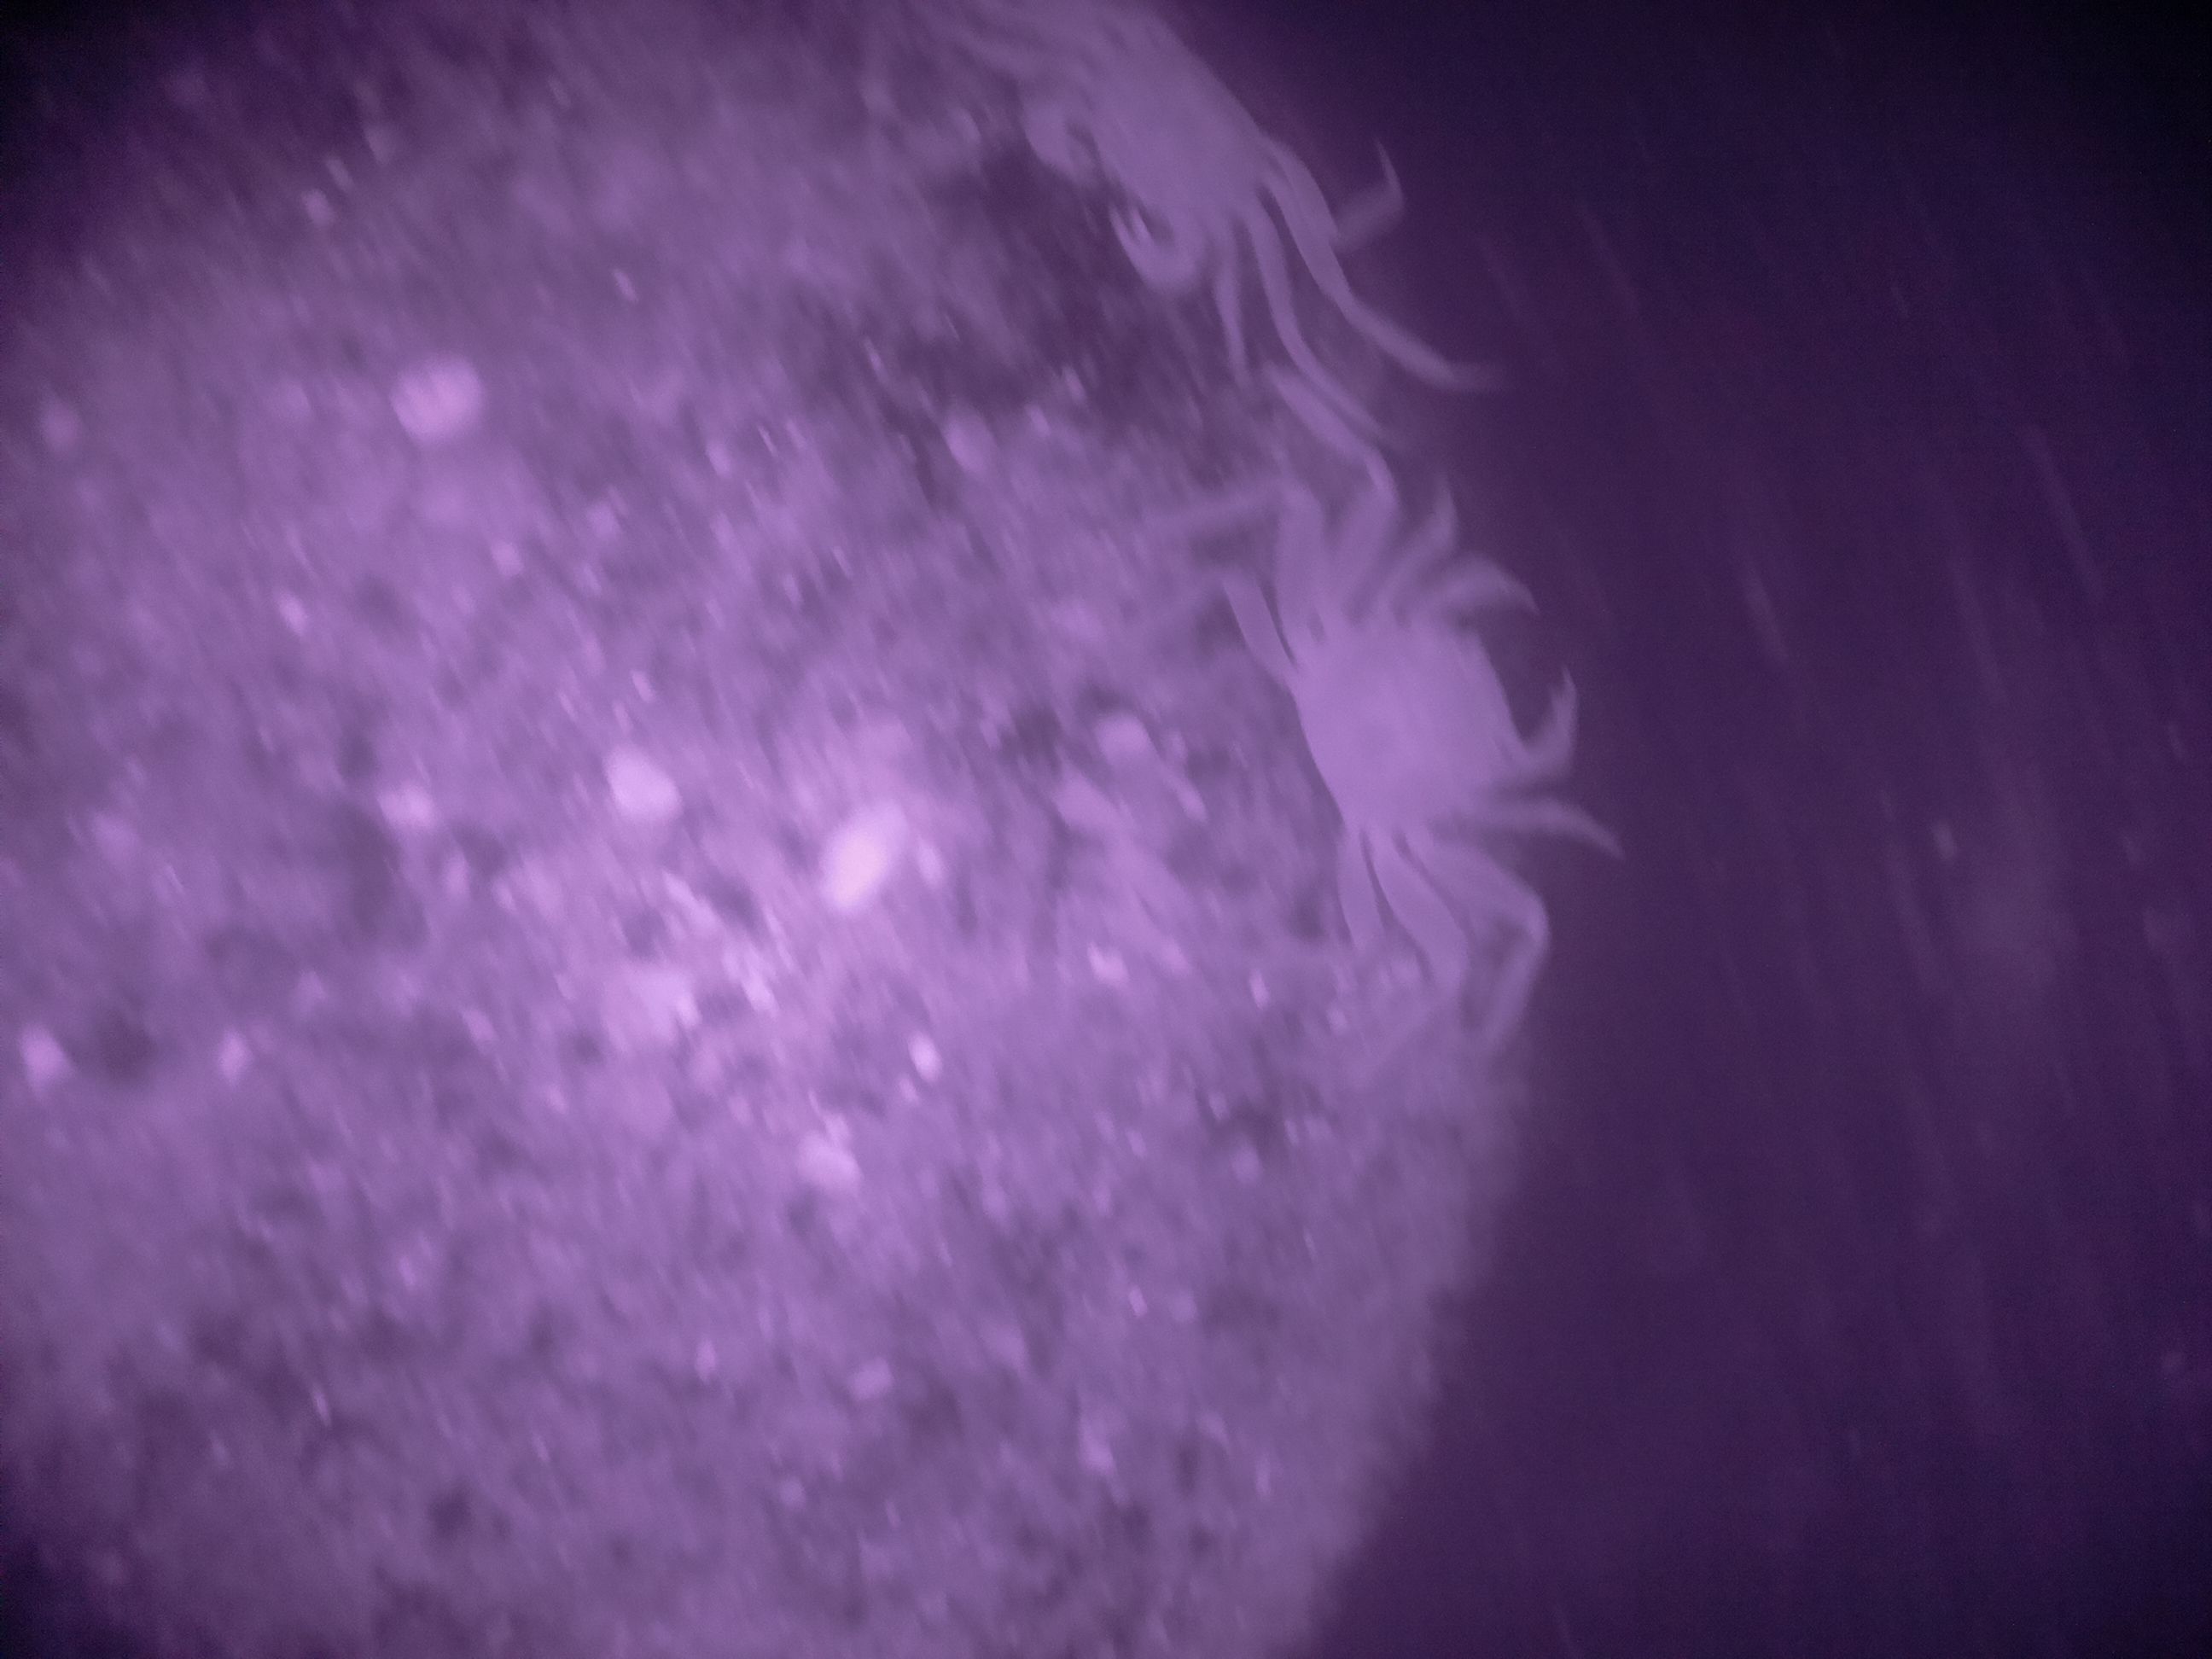Crab: (1101, 457, 1705, 995)
